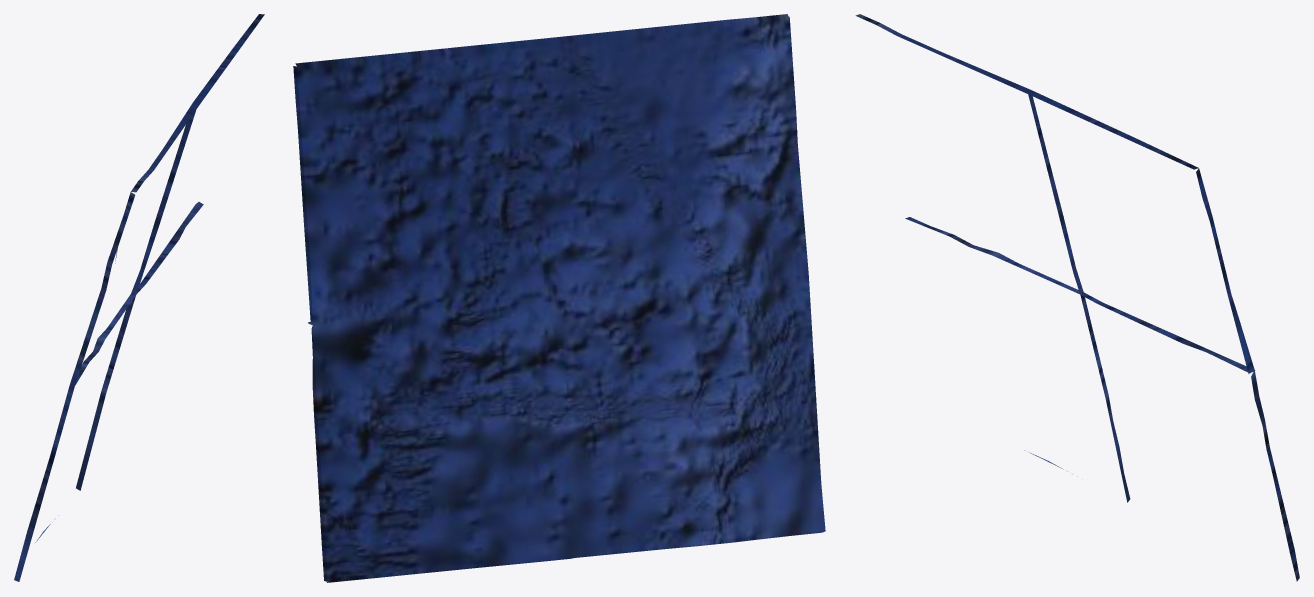
The picture shows the model from 3 angles, left to right: view 1: azimuth 30°, elevation 25°; view 2: azimuth 150°, elevation 25°; view 3: azimuth 270°, elevation 25°; orthographic projection. The views are drawn at different scales.
Size of the model in its own units: 281874 by 304188 by 270707.
Materials: 1 (1 with a texture image).
